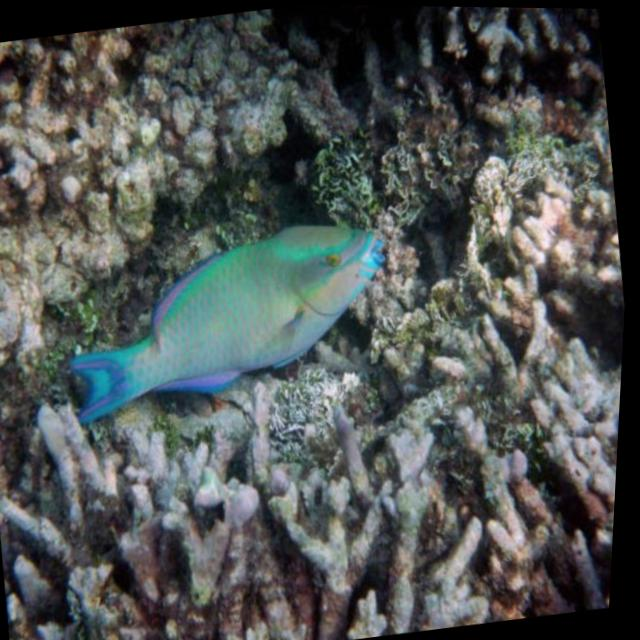Dead Coral: (0, 336, 626, 640), (0, 23, 158, 243)
